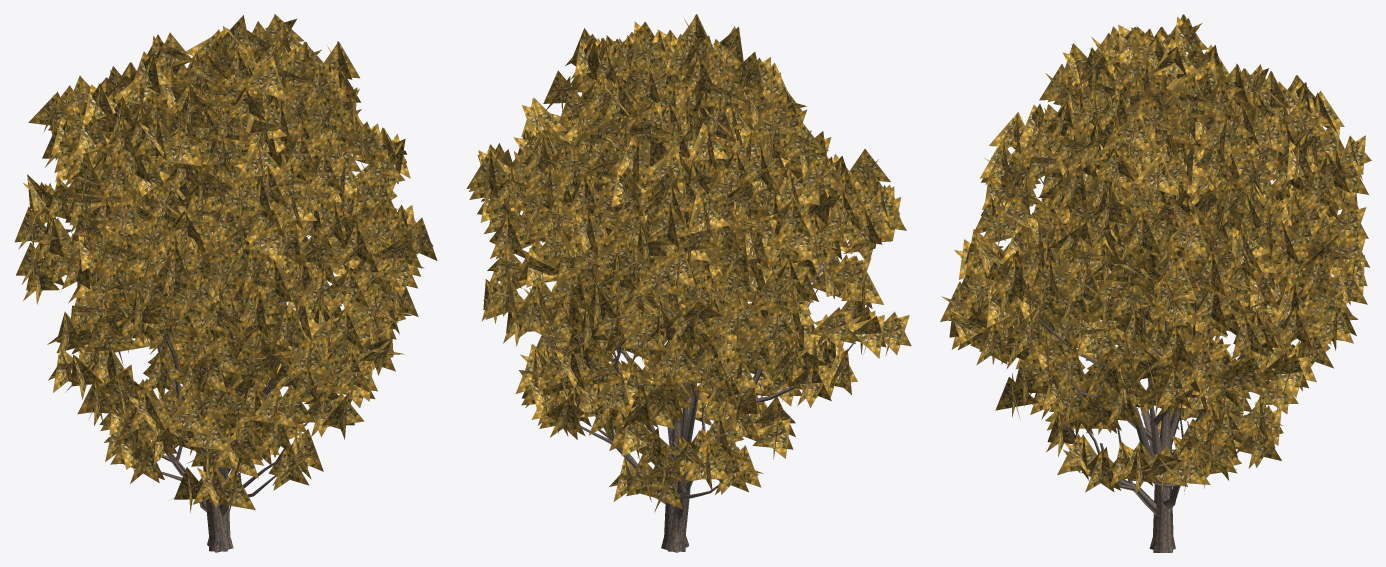
File: Carya_Ovalis_Autumn_Adult.glb
3 renders of one model, left to right at view 1: azimuth 30°, elevation 25°; view 2: azimuth 150°, elevation 25°; view 3: azimuth 270°, elevation 25°, orthographic.
Visible parts, largest first — view 1: Carya_Ovalis_Autumn_Adult__LOD3; view 2: Carya_Ovalis_Autumn_Adult__LOD3; view 3: Carya_Ovalis_Autumn_Adult__LOD3.
Part boxes in pixels (x1,y1,x2,y2): Carya_Ovalis_Autumn_Adult__LOD3: (14,14,437,552); Carya_Ovalis_Autumn_Adult__LOD3: (466,14,911,552); Carya_Ovalis_Autumn_Adult__LOD3: (940,14,1371,552).
Bounding box in the file's own units: 13.25 × 17.53 × 13.22.
3 materials, 3 textured.
